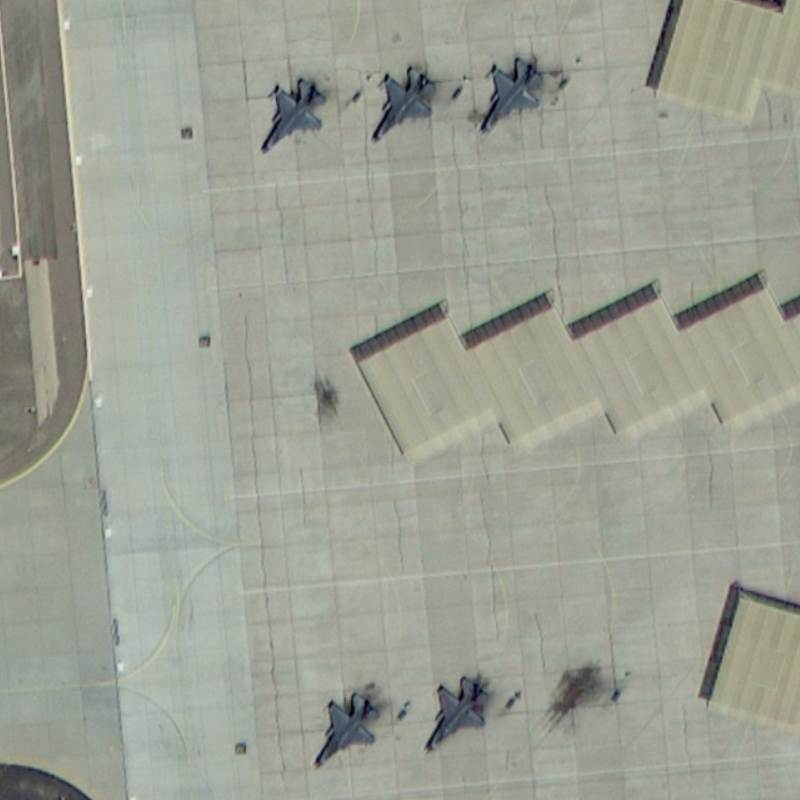A5: (421, 672, 493, 757), (255, 74, 329, 155), (476, 53, 547, 136), (366, 65, 437, 146), (310, 689, 382, 768)
